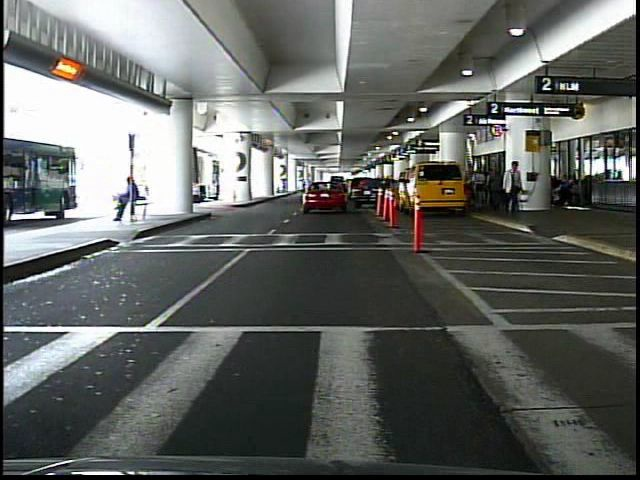person: (506, 162, 525, 214), (488, 164, 503, 216), (475, 165, 489, 209), (299, 179, 308, 193)
